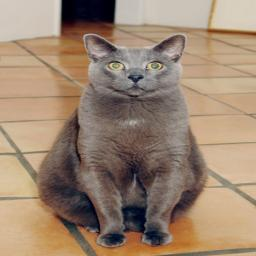catnose: (126, 72, 146, 83)
